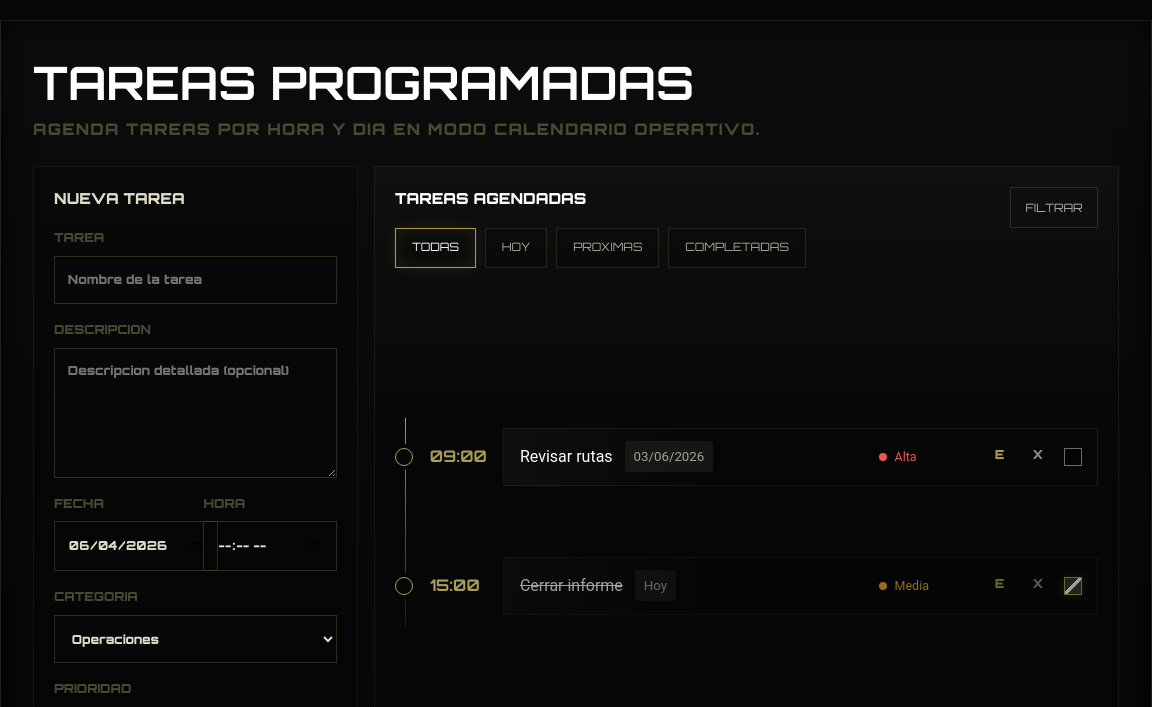
Test case: TasksSection › filters completed tasks
Click the button "Completadas".
click(737, 248)  # box [668,228,806,268]
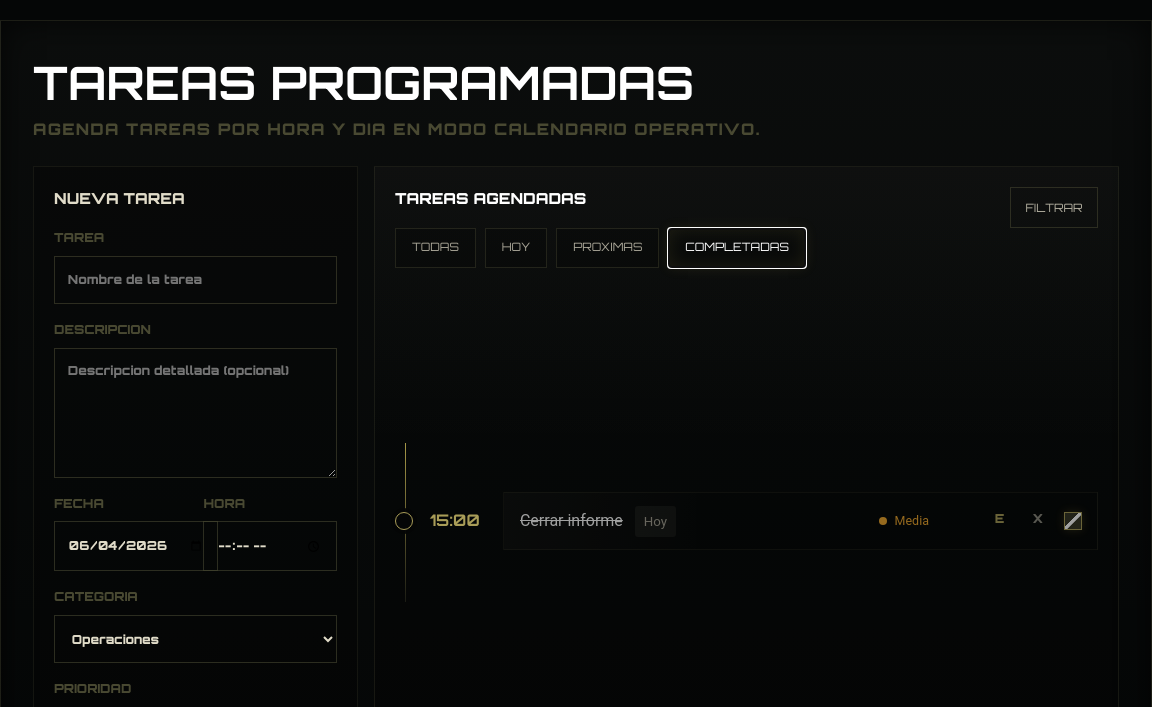
Expected: the text "Cerrar informe" is shown, [520,508,623,534]
Now the text "Revisar rutas" is gone
